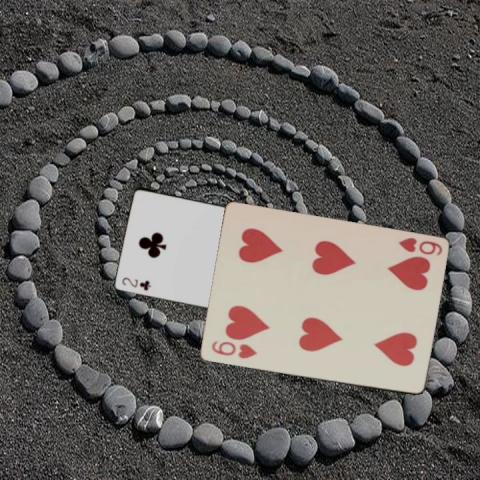2c: (119, 275, 152, 292)
6h: (208, 337, 258, 361), (395, 235, 443, 257)
